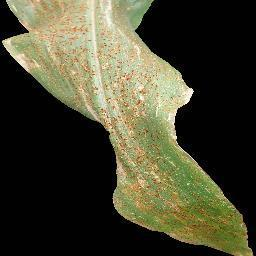Corn_Common_Rust: (64, 99, 256, 256), (0, 0, 213, 99)
